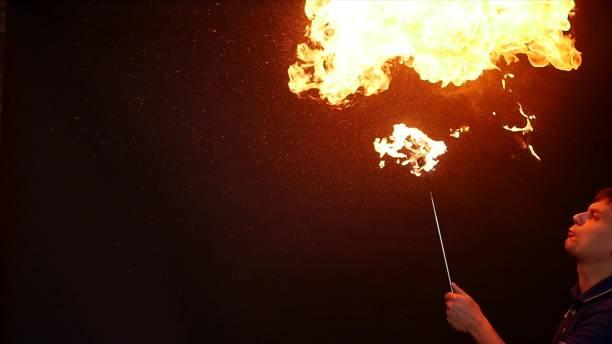Fire: (286, 0, 591, 175)
